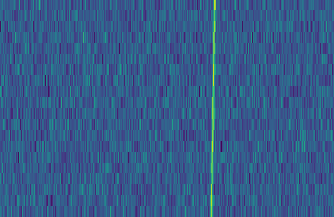signal: (207, 0, 219, 217)
